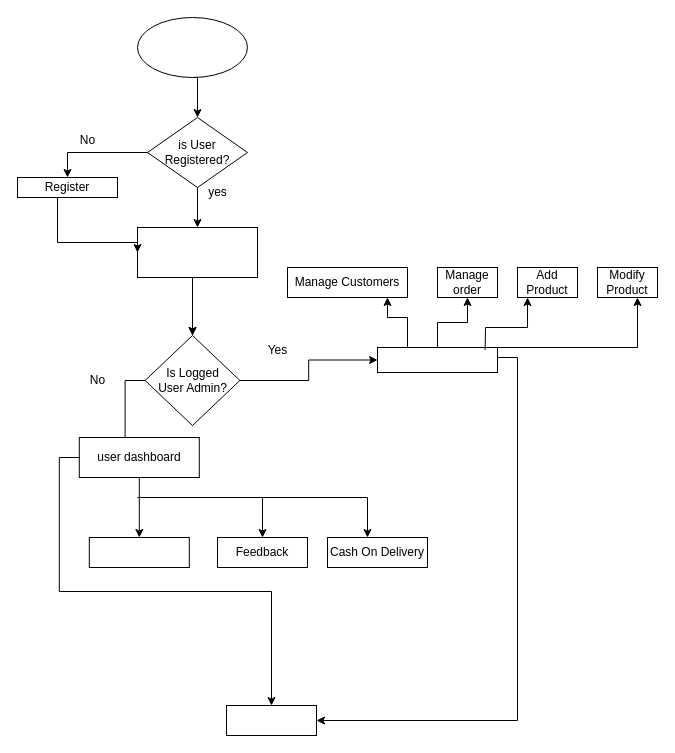
The diagram is 675 pixels wide and 753 high, and some of its shapes have lost their labels. Here are the shapes that lost their labels. From the top down, the centre of each, then its label:
At point 192,47: "start".
At point 197,252: "Login".
At point 437,359: "Admin Dashboard".
At point 138,552: "Add to cart".
At point 271,720: "LogOut".
